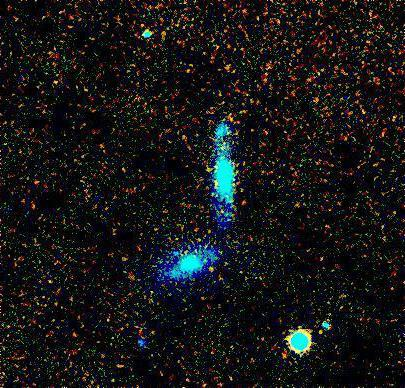star: (198, 254, 228, 284)
